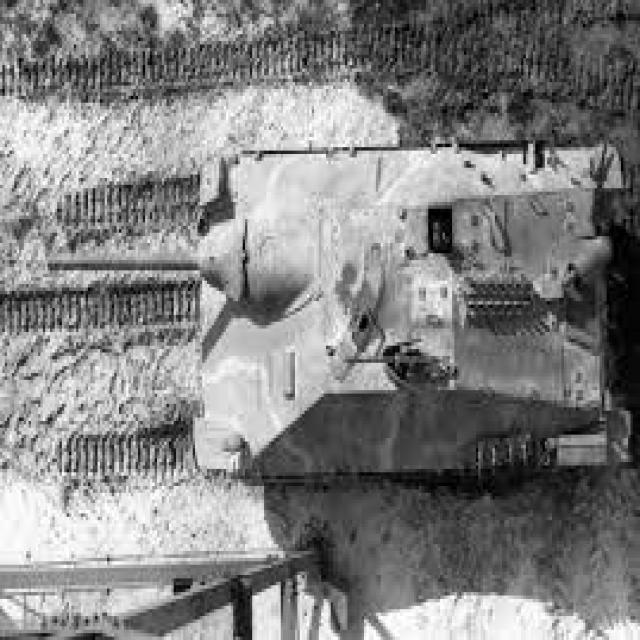Tanks: (194, 140, 613, 476)
